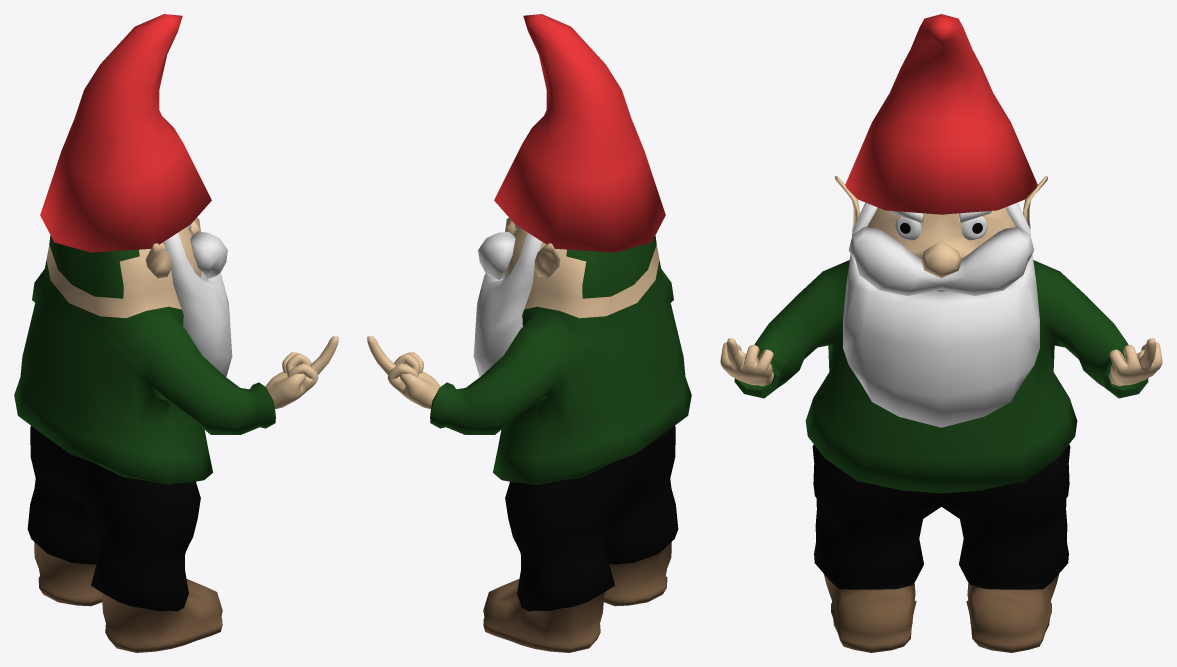
The model's file is gnome.fbx.
3 views of the same model, side by side, from view 1: azimuth 30°, elevation 25°; view 2: azimuth 150°, elevation 25°; view 3: azimuth 270°, elevation 25° (orthographic). The views are drawn at different scales.
Parts seen in each view (by area): view 1: Cube.008; view 2: Cube.008; view 3: Cube.008.
Part boxes in pixels (left/top/right/bottom): Cube.008: left=14, top=14, right=338, bottom=652; Cube.008: left=367, top=14, right=691, bottom=652; Cube.008: left=720, top=14, right=1162, bottom=652.
Size of the model in its own units: 217 by 623 by 399.
